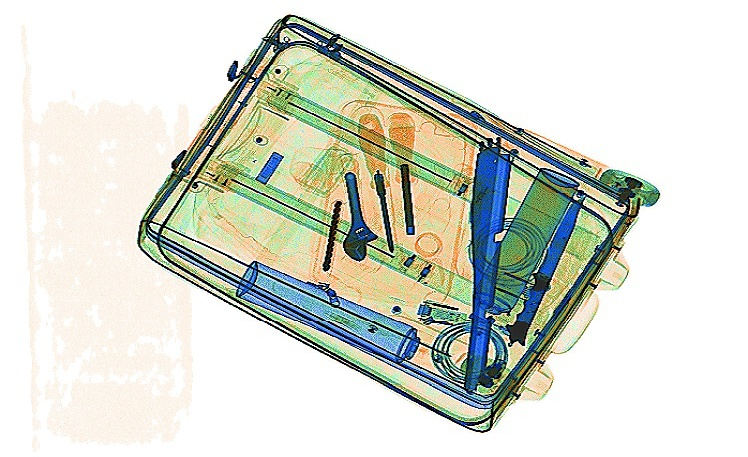knife: (503, 192, 584, 347)
pressure: (233, 257, 426, 366), (470, 165, 579, 316)
